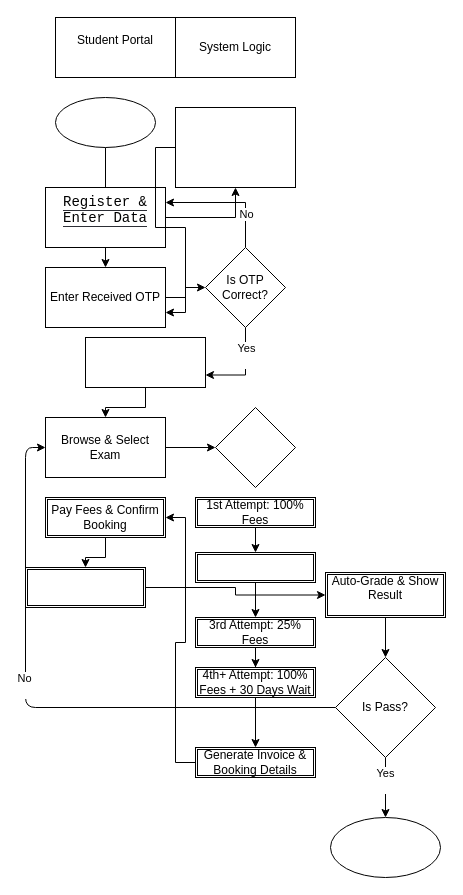
This 463x895 diagram has some shape labels left out. Here are the shapes that lost their labels. From the top down, the centre of each, then its label:
the point at 105,122: Start
the point at 235,147: Generate & Send OTP
the point at 145,362: Login with Email & Password
the point at 255,447: Check Attempt History
the point at 85,587: Attend & Start Exam
the point at 255,567: 2nd Attempt: 50% Fees
the point at 385,847: Issue Certificate & End
